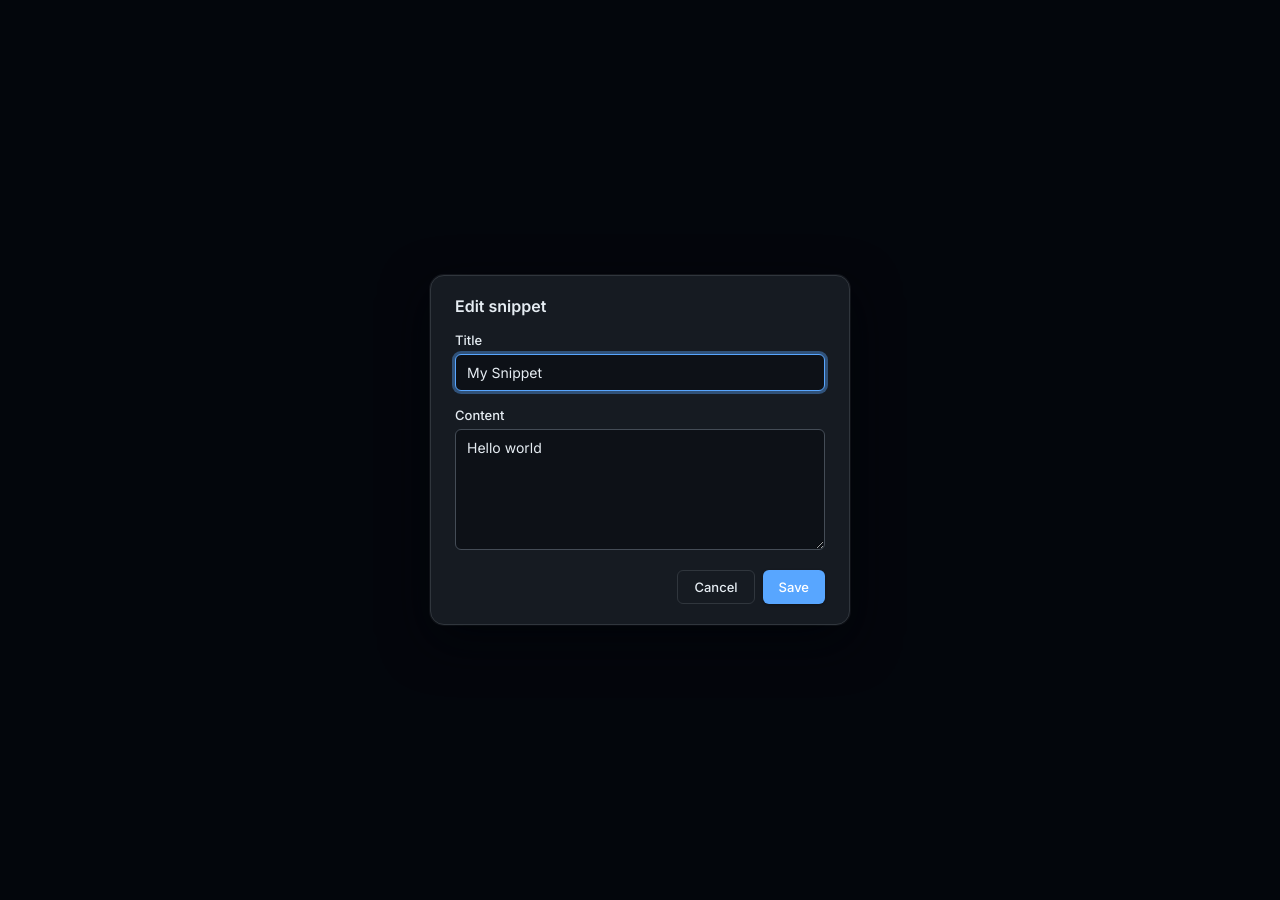
Test: EditSnippetModal › validates content on save (unencrypted only) and focuses textarea
The width and height of the screenshot is (1280, 900).
Replace the text in the field labelled "Title" with "Valid Title" at (640, 373), box [455, 354, 825, 391]
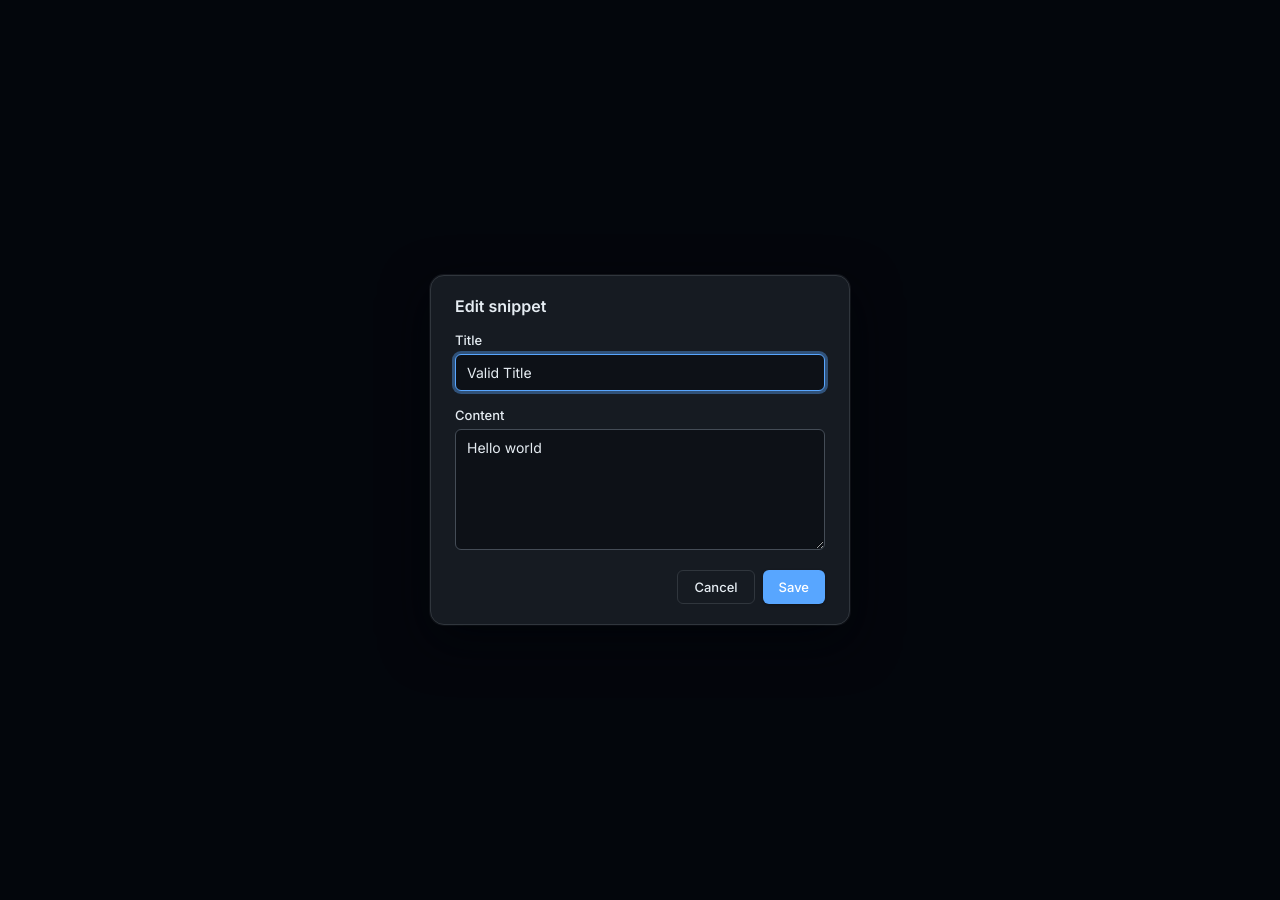
Clear the text box labelled "Content" at (640, 490), box [455, 429, 825, 550]
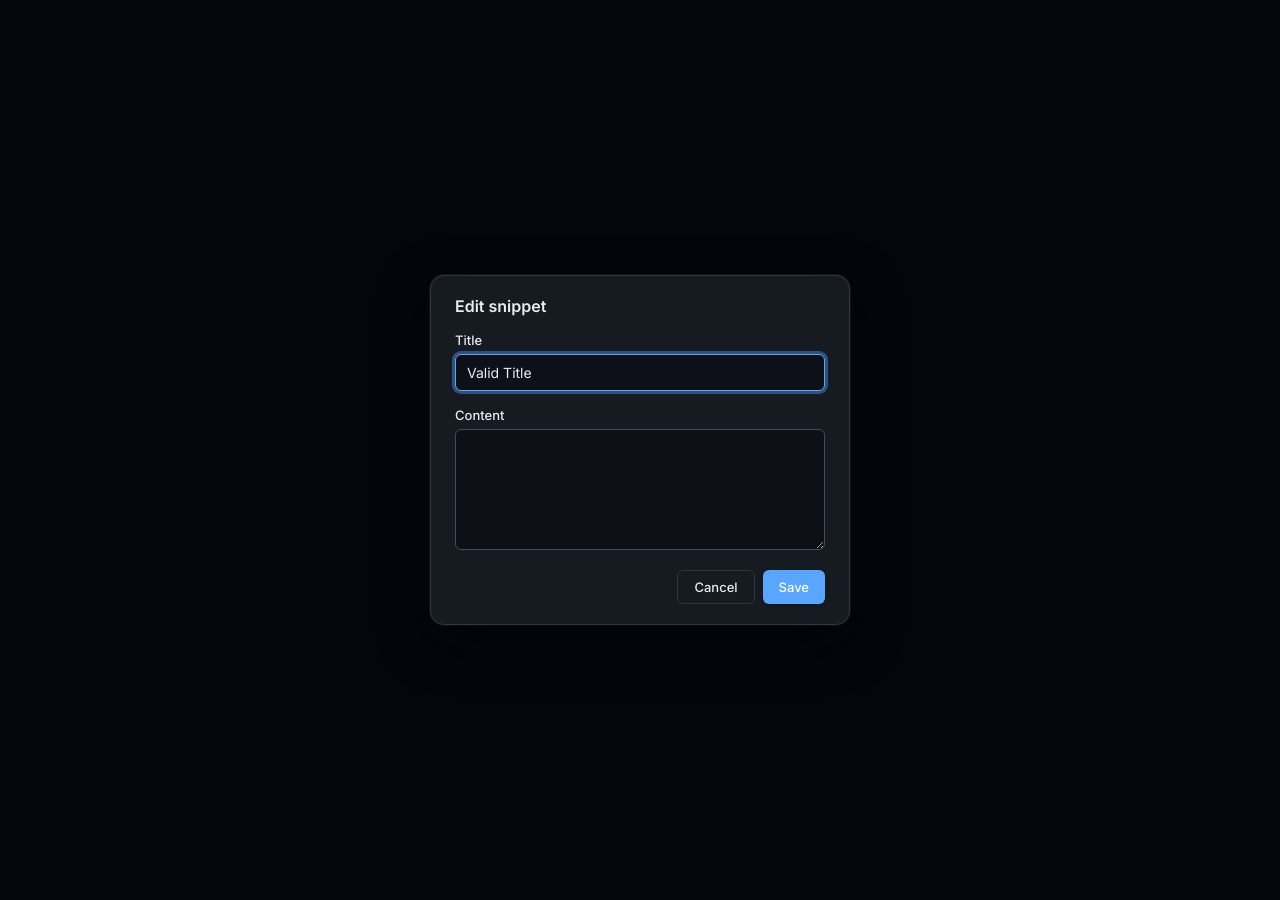
Click the button "Save".
click(794, 587)  # box [762, 570, 825, 604]
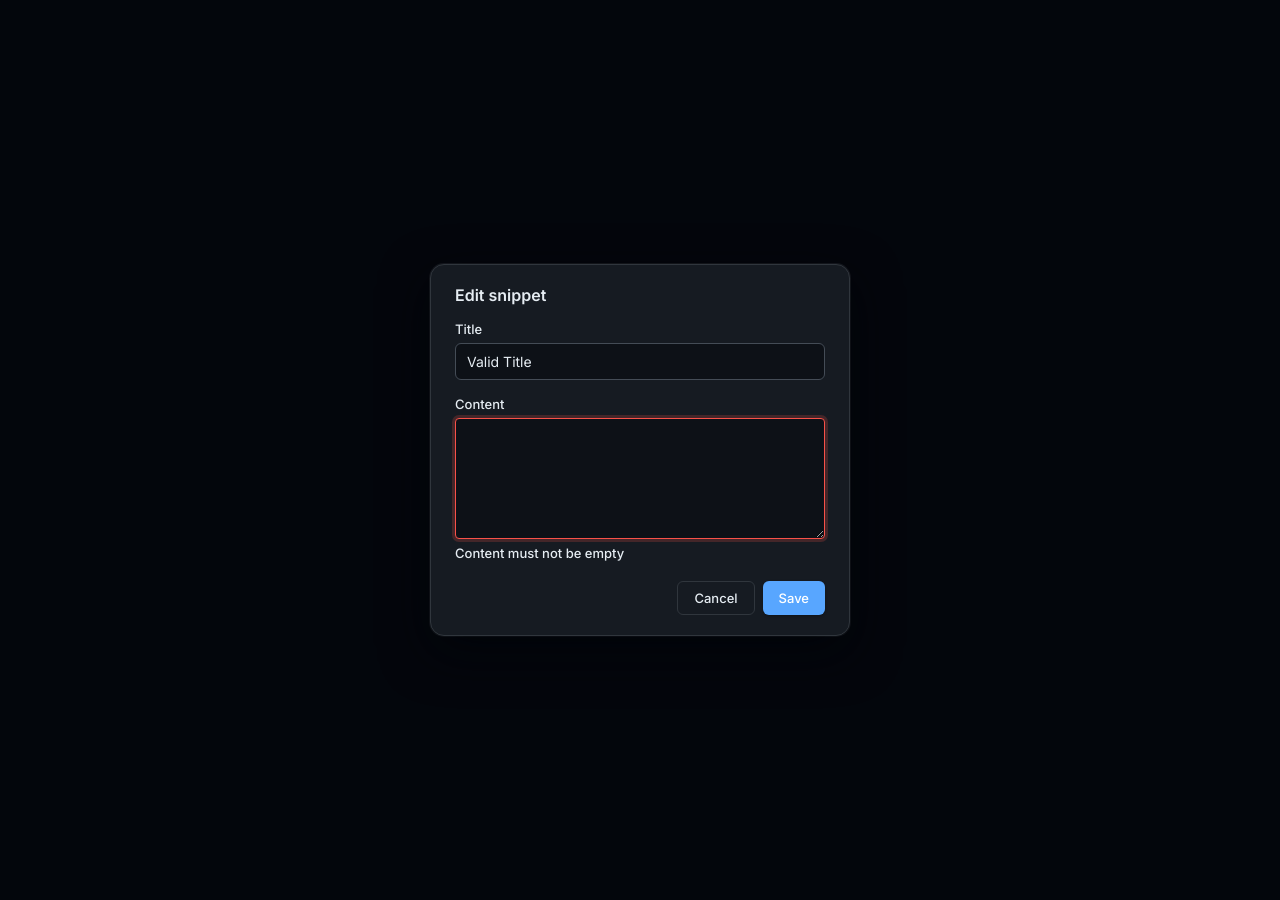
Check: the message "Content must not be empty" is shown, box [455, 545, 624, 561]
